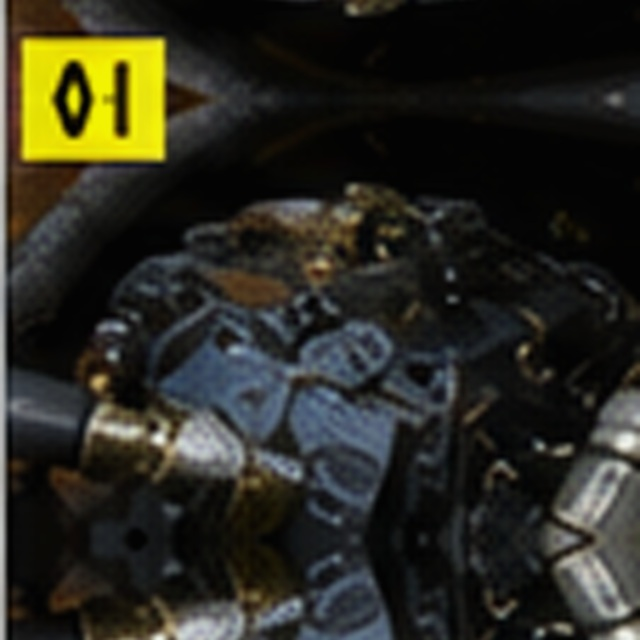hydraulic_oil_leak: (242, 247, 448, 453)
